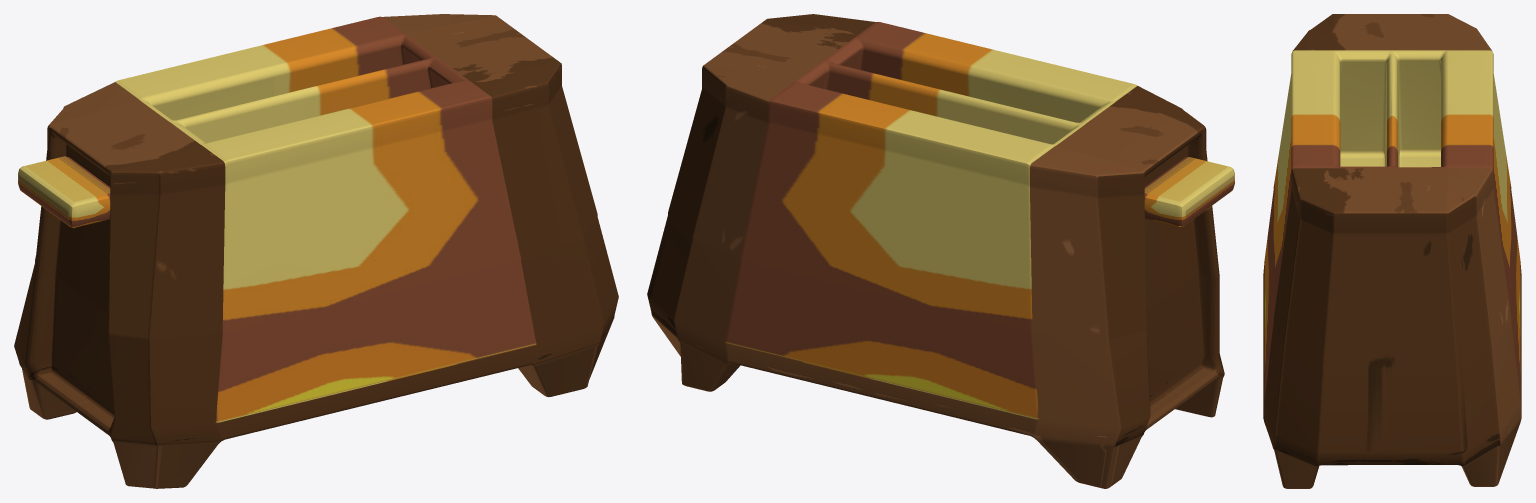
The model's file is toster.fbx.
3 views of the same model, side by side, from view 1: azimuth 30°, elevation 25°; view 2: azimuth 150°, elevation 25°; view 3: azimuth 270°, elevation 25° (orthographic). The views are drawn at different scales.
Parts seen in each view (by area): view 1: toster, toser_pull_thing; view 2: toster, toser_pull_thing; view 3: toster.
Boxes of the visible parts, bbox=[...] form: toster: bbox=[14, 14, 618, 488]; toser_pull_thing: bbox=[18, 156, 110, 227]; toster: bbox=[647, 14, 1224, 488]; toser_pull_thing: bbox=[1144, 157, 1234, 226]; toster: bbox=[1263, 14, 1521, 488].
Size of the model in its own units: 4.32 by 2.41 by 2.
